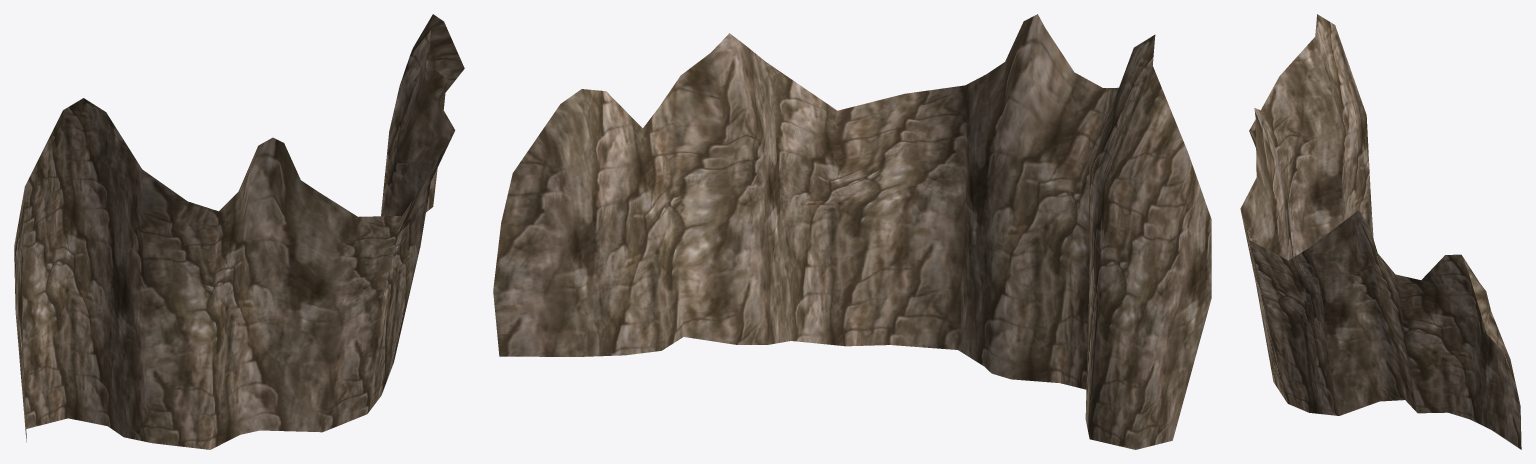
The model's file is OVERHILL_A_01_MOUNTAIN_BACKDROP_04.fbx.
3 views of the same model, side by side, from view 1: azimuth 30°, elevation 25°; view 2: azimuth 150°, elevation 25°; view 3: azimuth 270°, elevation 25° (orthographic). The views are drawn at different scales.
Visible parts, largest first — view 1: OVERHILL_A_01_MOUNTAIN_BACKDROP_04; view 2: OVERHILL_A_01_MOUNTAIN_BACKDROP_04; view 3: OVERHILL_A_01_MOUNTAIN_BACKDROP_04.
Boxes of the visible parts, x1=… form: OVERHILL_A_01_MOUNTAIN_BACKDROP_04: x1=14, y1=14, x2=464, y2=449; OVERHILL_A_01_MOUNTAIN_BACKDROP_04: x1=493, y1=14, x2=1211, y2=449; OVERHILL_A_01_MOUNTAIN_BACKDROP_04: x1=1240, y1=14, x2=1521, y2=449.
Bounding box in the file's own units: 295373 × 189837 × 167800.
Materials: 1 (1 with a texture image).
